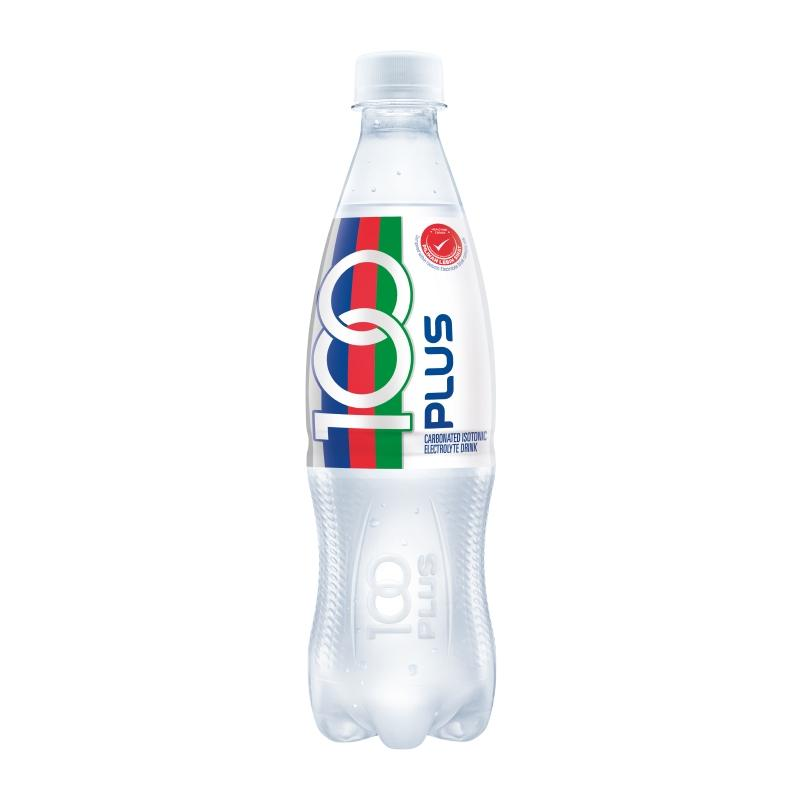botella: (298, 44, 506, 749)
